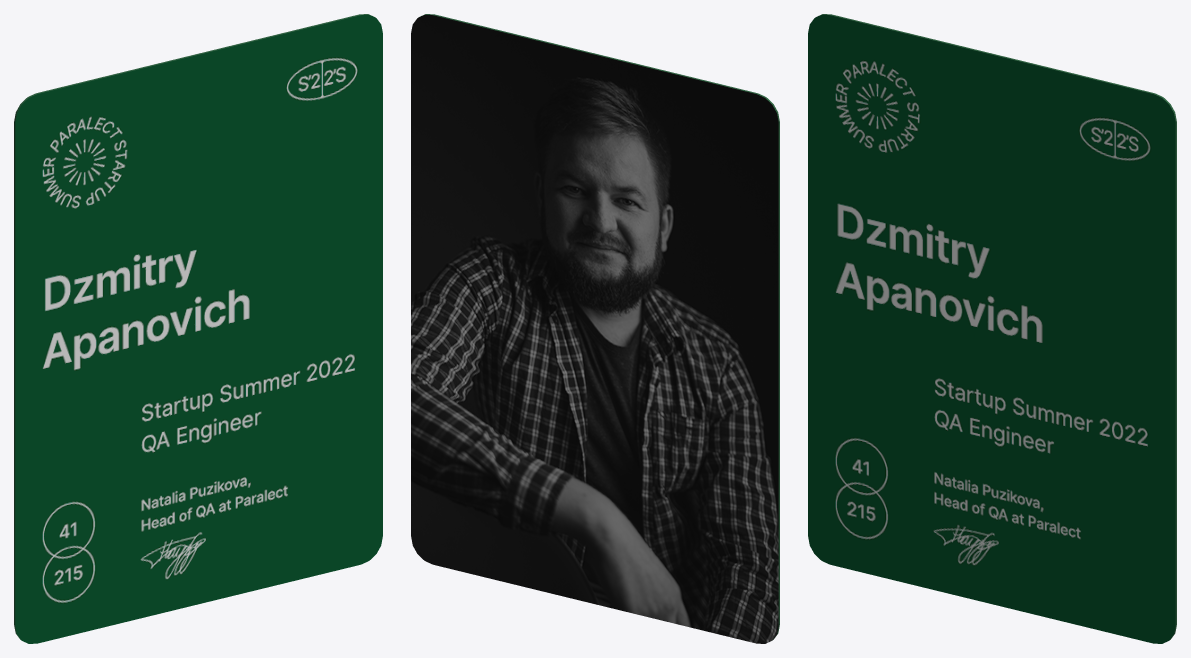
Rendered from card.glb.
3 renders of one model, left to right at view 1: azimuth 30°, elevation 25°; view 2: azimuth 150°, elevation 25°; view 3: azimuth 330°, elevation 25°, orthographic.
Parts seen in each view (by area): view 1: Plane; view 2: Plane; view 3: Plane.
Part boxes in pixels (left/top/right/bottom): Plane: left=14, top=14, right=382, bottom=643; Plane: left=411, top=14, right=779, bottom=643; Plane: left=808, top=14, right=1176, bottom=643.
Bounding box in the file's own units: 0.07 × 0.1 × 0.000396.
3 materials, 2 textured.
